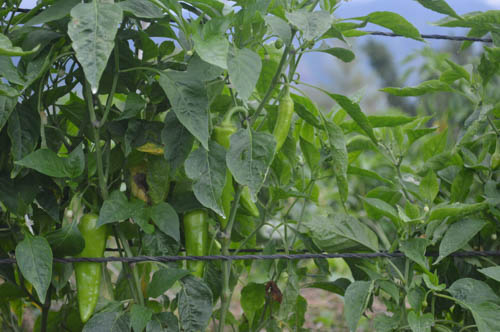ChiliPepper: (70, 213, 108, 322), (209, 124, 237, 230), (178, 210, 211, 275), (269, 97, 291, 156)
